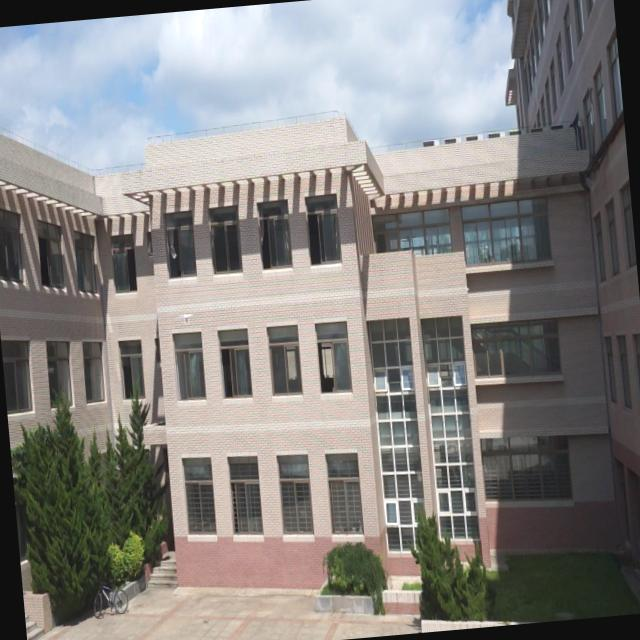drone: (175, 307, 197, 329)
